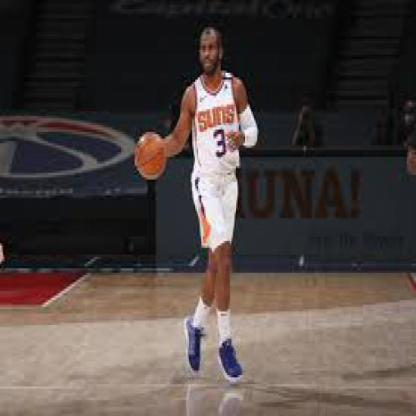basketball: (135, 132, 165, 180)
